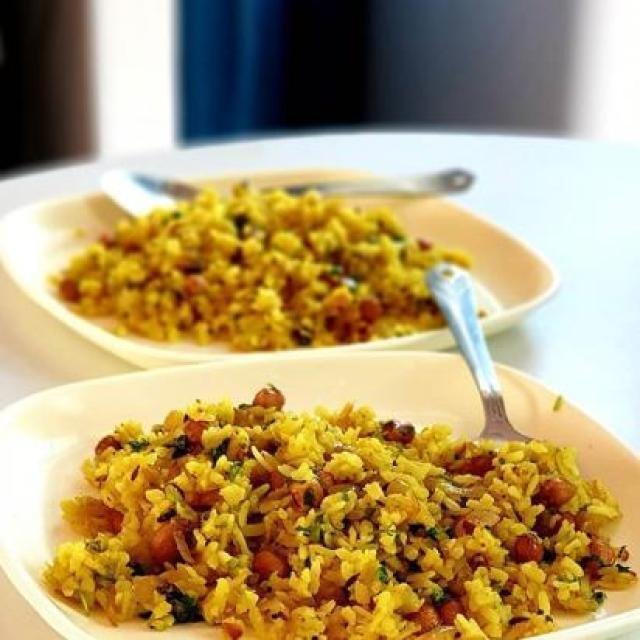poha: (39, 406, 614, 618), (45, 192, 514, 348)
